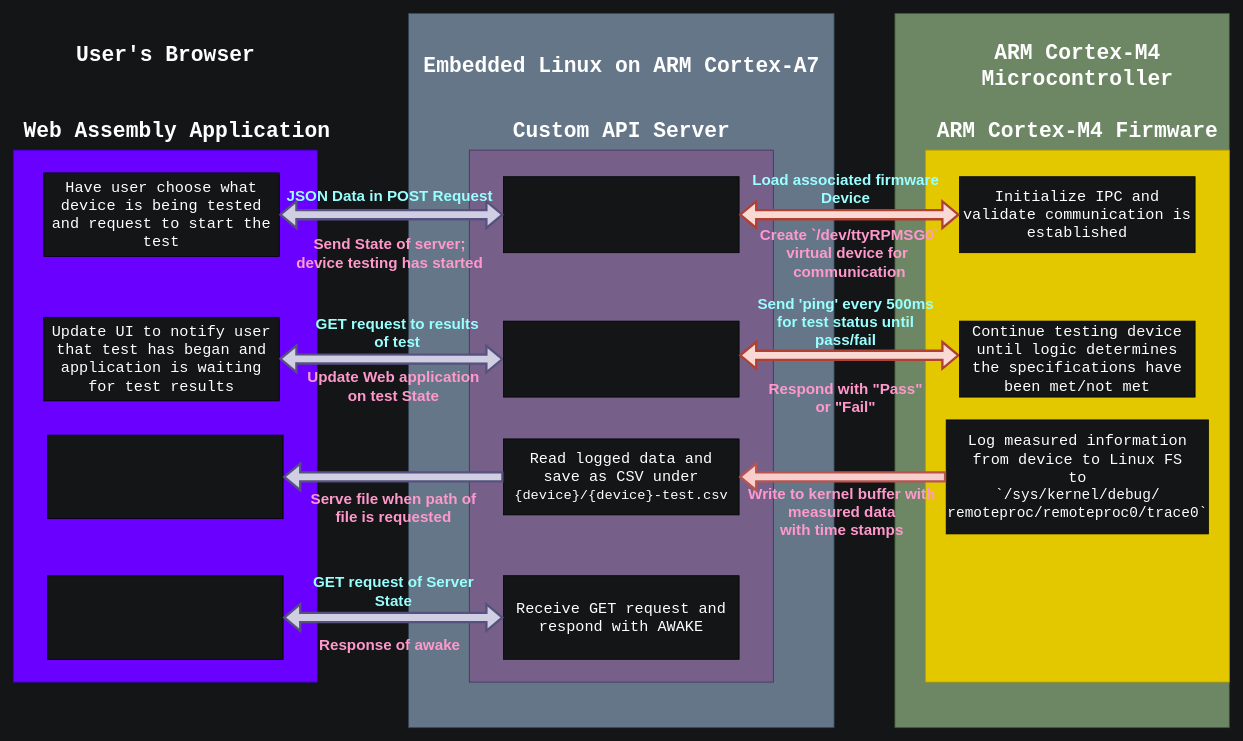
The diagram is 1243 pixels wide and 741 high, and some of its shapes have lost their labels. The shapes that lost their labels are listed below. From the top down, each one's box as (x1, y1, x2, y2) in pixels, then its label:
(503, 176, 739, 253): Process JSON data and load firmware with remoteproc
(503, 320, 739, 397): Ping Server and await results of the test and
(47, 434, 283, 519): Display current status to UI and have button to download CSV data from test
(47, 575, 283, 659): asynchronously send GET request every second to ensure Server is up
